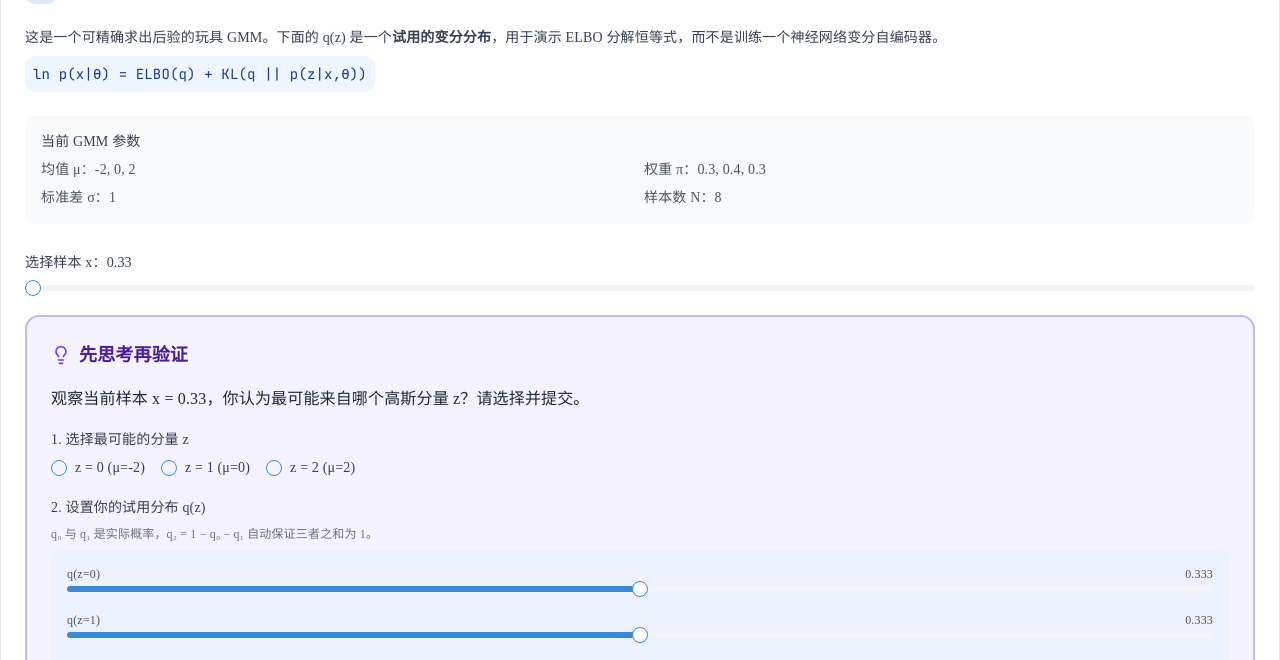
pedagogical invariants: fourth batch › DiscreteLatentELBODemo: setting q to posterior gives near-zero KL
The width and height of the screenshot is (1280, 660).
Click the 1st radio button: [59, 468] box x1=51 y1=460 x2=67 y2=476
(page scrolled)
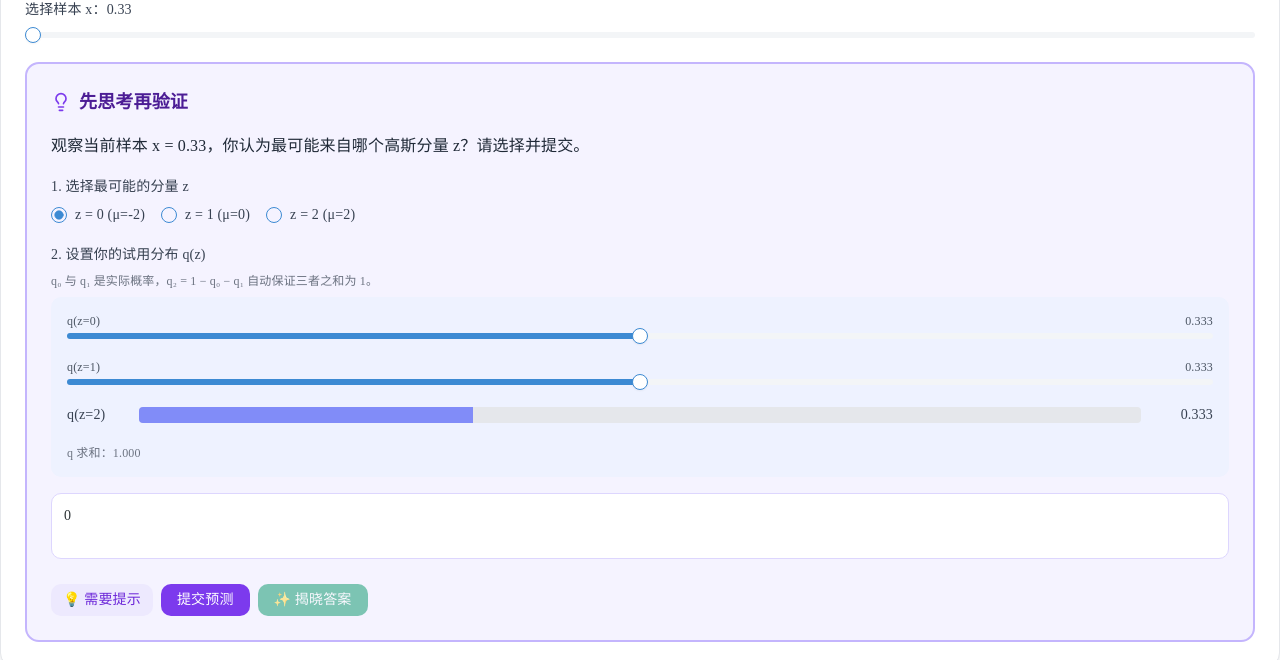
Click the button "提交预测": [205, 600] box x1=161 y1=584 x2=250 y2=616
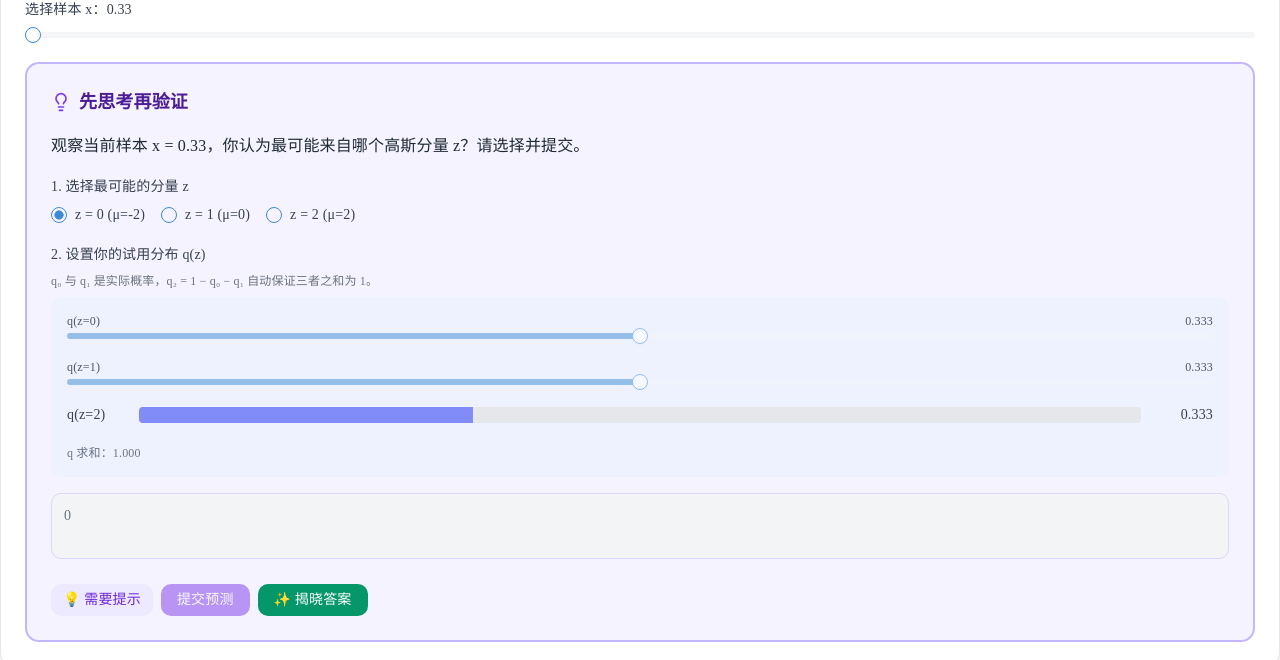
Click the button "✨ 揭晓答案": [313, 600] box x1=258 y1=584 x2=368 y2=616
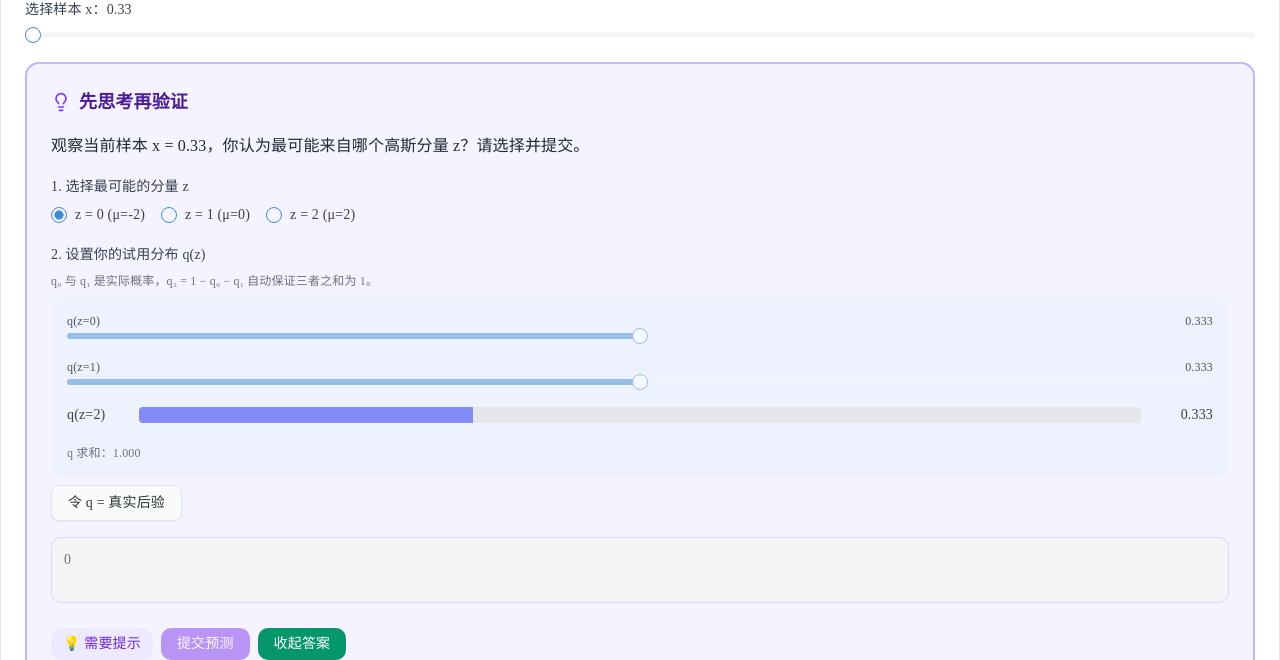
Click the button "令 q = 真实后验": [116, 503] box x1=51 y1=485 x2=182 y2=521
(page scrolled)
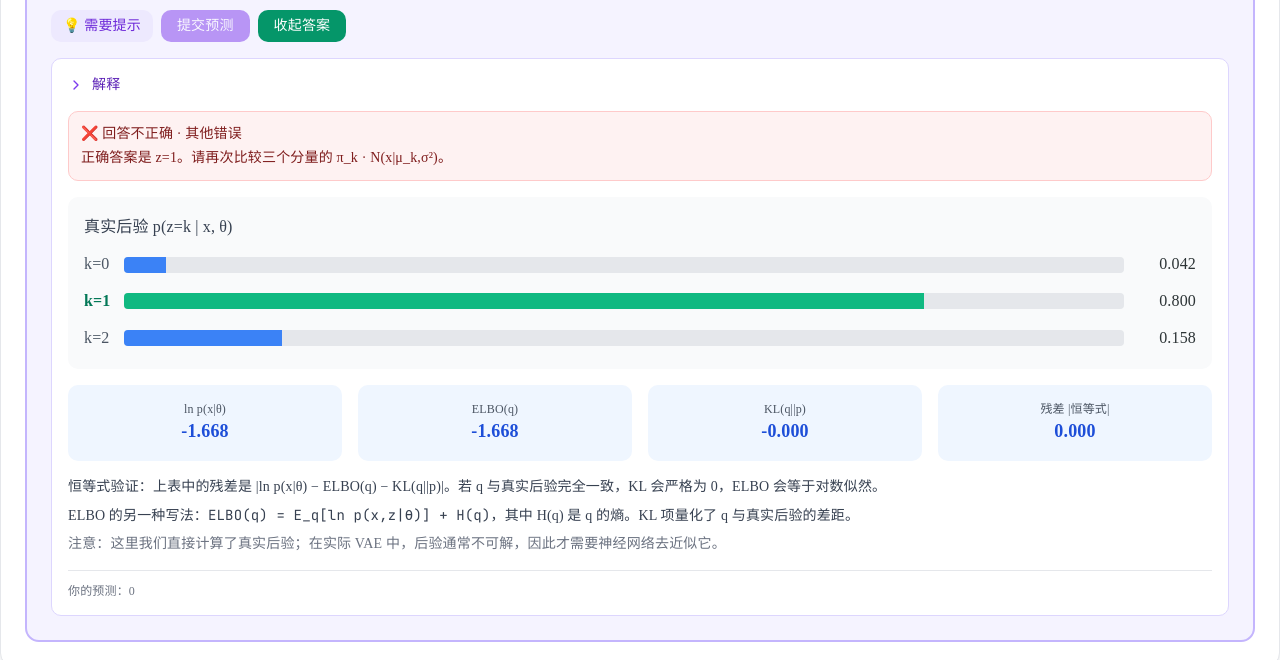
Expected: the text "KL(q||p)" is shown, x1=764 y1=402 x2=806 y2=416
Expected: the text "-0.000" is shown, x1=761 y1=421 x2=809 y2=441
